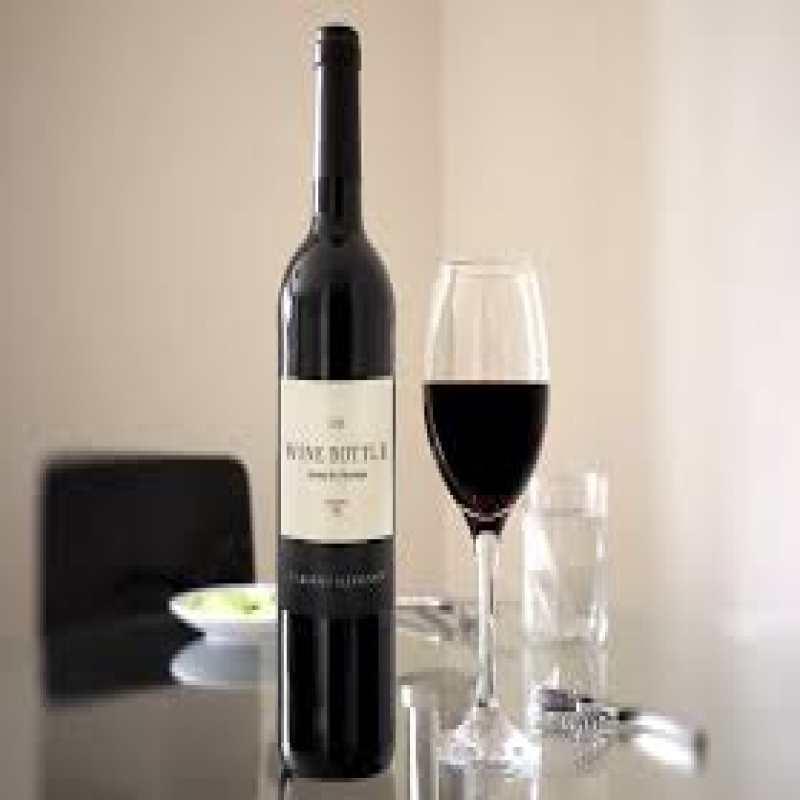wine: (264, 27, 411, 782)
